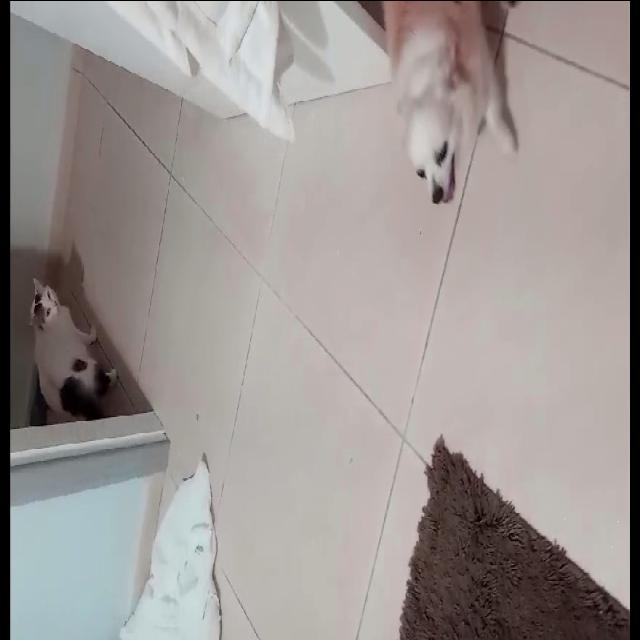Simba: (19, 254, 143, 418)
Theo: (384, 2, 524, 215)
